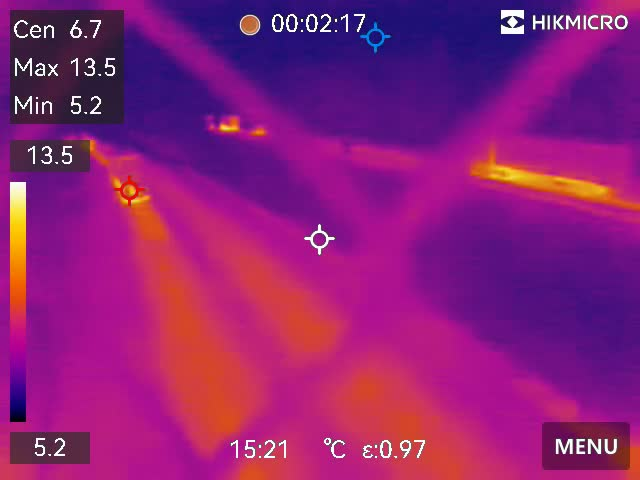heavyTruck: (465, 122, 635, 199)
